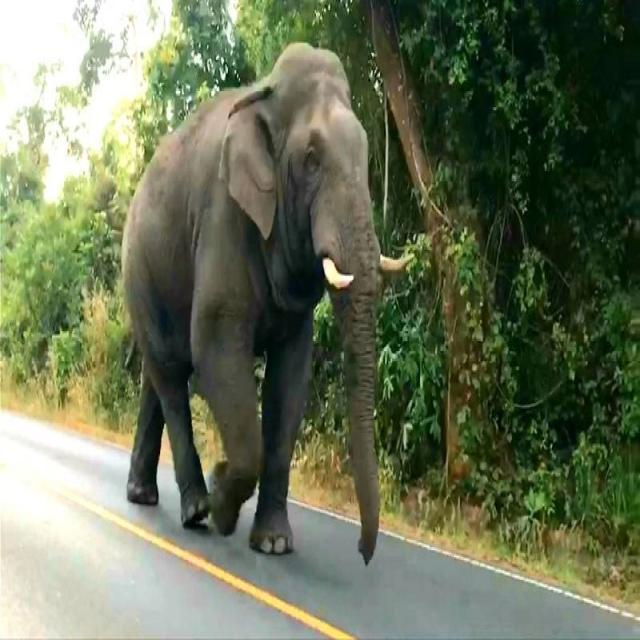Elephant: (111, 51, 407, 568)
